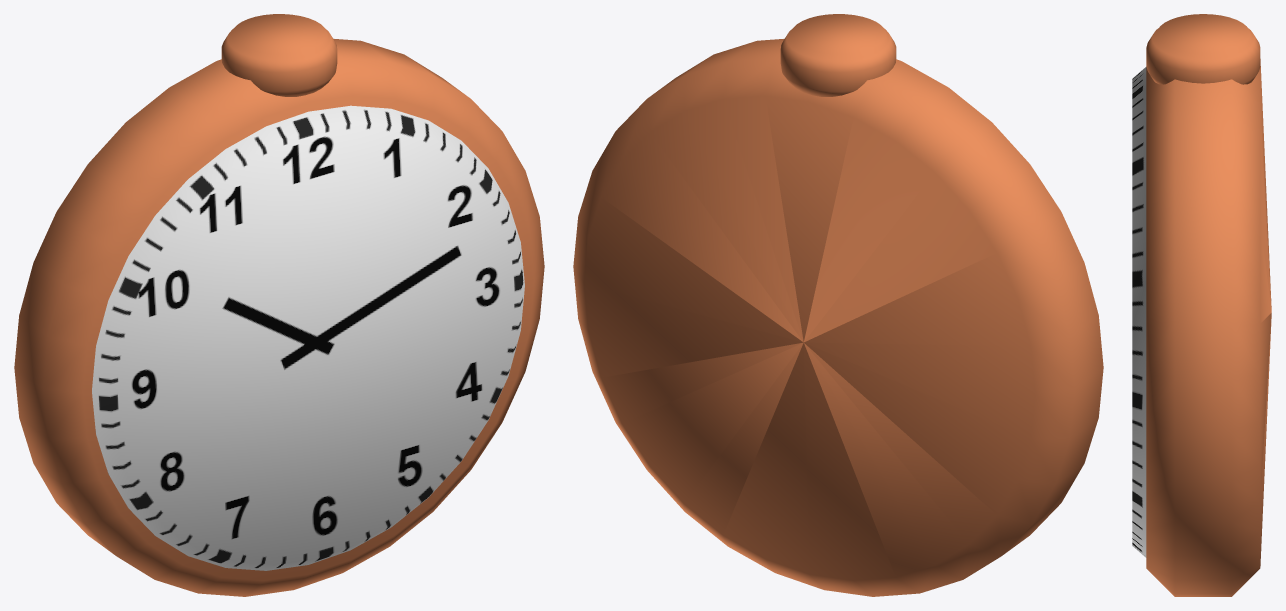
Rendered from StopWatch.fbx.
3 views of the same model, side by side, from view 1: azimuth 30°, elevation 25°; view 2: azimuth 150°, elevation 25°; view 3: azimuth 270°, elevation 25° (orthographic).
Parts seen in each view (by area): view 1: Cylinder; view 2: Cylinder; view 3: Cylinder.
Boxes of the visible parts, left/top/right/bottom form: Cylinder: left=14, top=14, right=544, bottom=596; Cylinder: left=573, top=14, right=1103, bottom=596; Cylinder: left=1132, top=14, right=1271, bottom=596.
Size of the model in its own units: 200 by 208 by 49.
